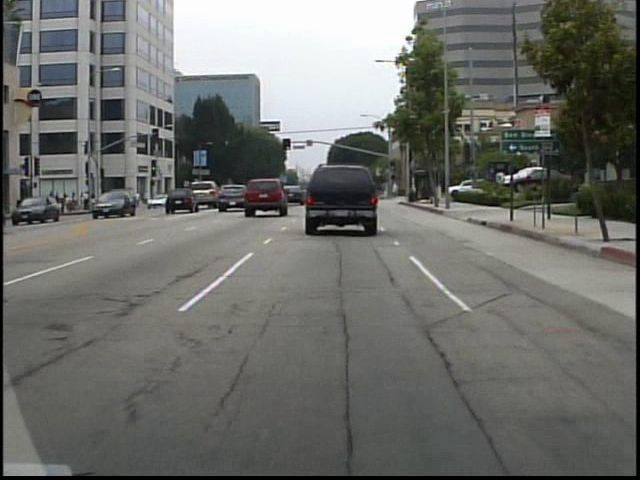person: (389, 181, 401, 202), (132, 187, 143, 209)
